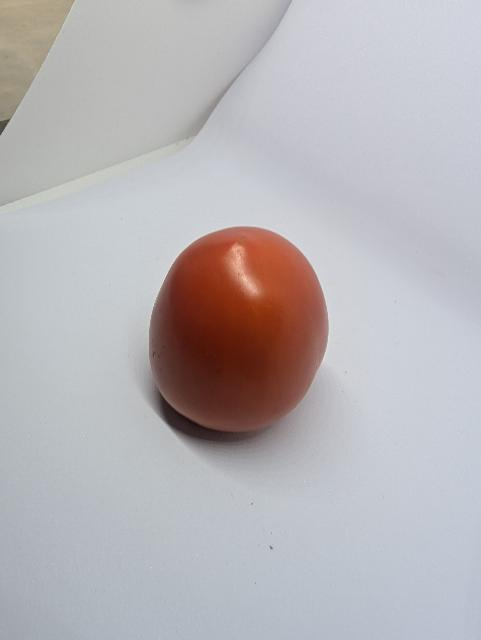red: (117, 212, 364, 451)
